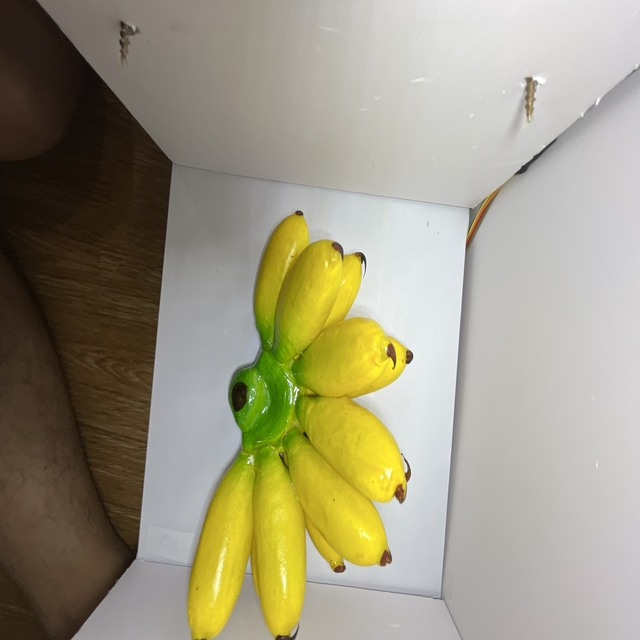Chuoi: (185, 210, 416, 640)
